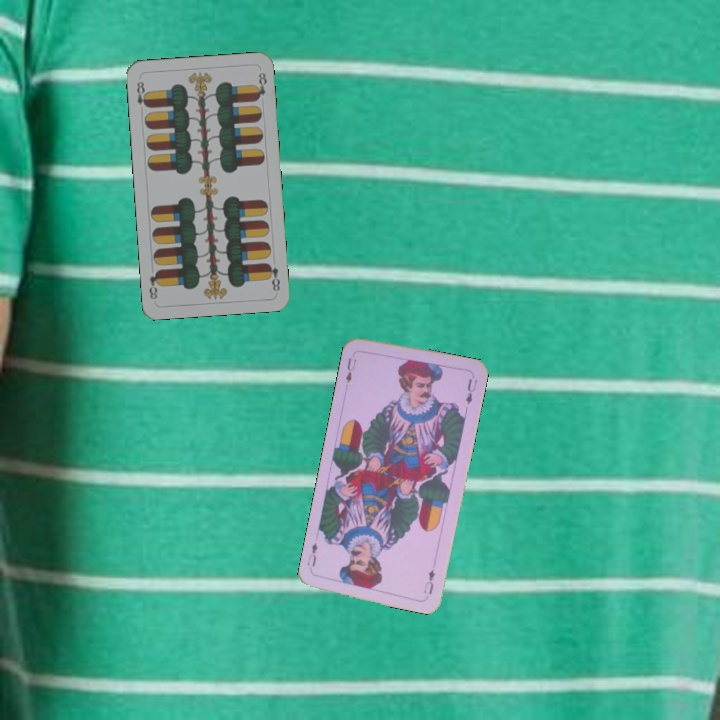E8: (132, 77, 151, 116), (263, 259, 282, 294)
EU: (341, 354, 359, 386), (420, 565, 437, 597)
